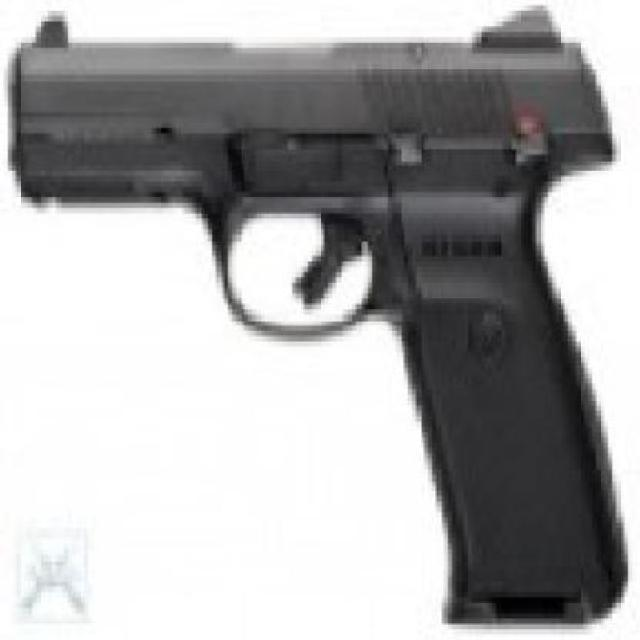gun: (20, 5, 620, 630)
